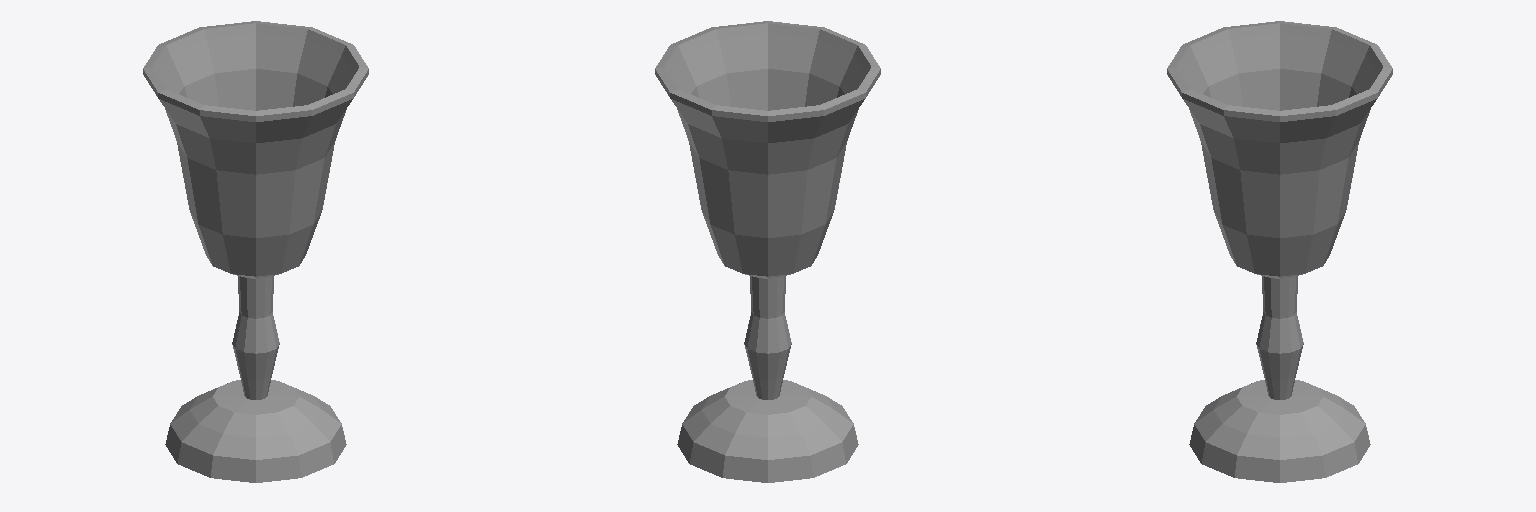
Rendered from chalice.obj.
3 views of the same model, side by side, from view 1: azimuth 30°, elevation 25°; view 2: azimuth 150°, elevation 25°; view 3: azimuth 270°, elevation 25° (orthographic).
Parts seen in each view (by area): view 1: Copa; view 2: Copa; view 3: Copa.
Part boxes in pixels (bbox=[...]): Copa: bbox=[143, 21, 368, 482]; Copa: bbox=[655, 21, 880, 482]; Copa: bbox=[1167, 21, 1392, 482].
Bounding box in the file's own units: 5.88 × 10.85 × 5.88.